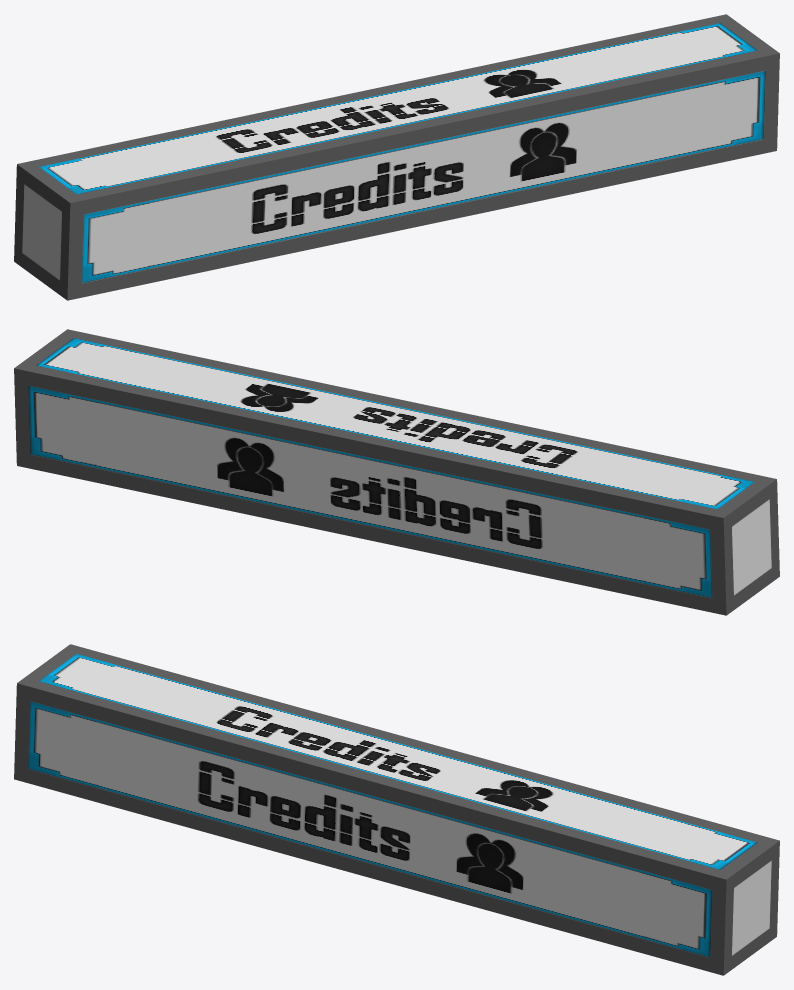
File: Credits Button.fbx
3 renders of one model, top to bottom at view 1: azimuth 30°, elevation 25°; view 2: azimuth 150°, elevation 25°; view 3: azimuth 330°, elevation 25°, orthographic.
Parts seen in each view (by area): view 1: Level_Obeject_Inside, Level_Object_Frame; view 2: Level_Obeject_Inside, Level_Object_Frame; view 3: Level_Obeject_Inside, Level_Object_Frame.
Part boxes in pixels (x1,y1,x2,y2): Level_Obeject_Inside: (22, 23, 765, 283); Level_Object_Frame: (14, 14, 779, 300); Level_Obeject_Inside: (28, 338, 771, 598); Level_Object_Frame: (14, 329, 779, 615); Level_Obeject_Inside: (28, 653, 771, 957); Level_Object_Frame: (14, 644, 779, 975).
Size of the model in its own units: 41 by 6.61 by 5.33.
Materials: 2 (1 with a texture image).
